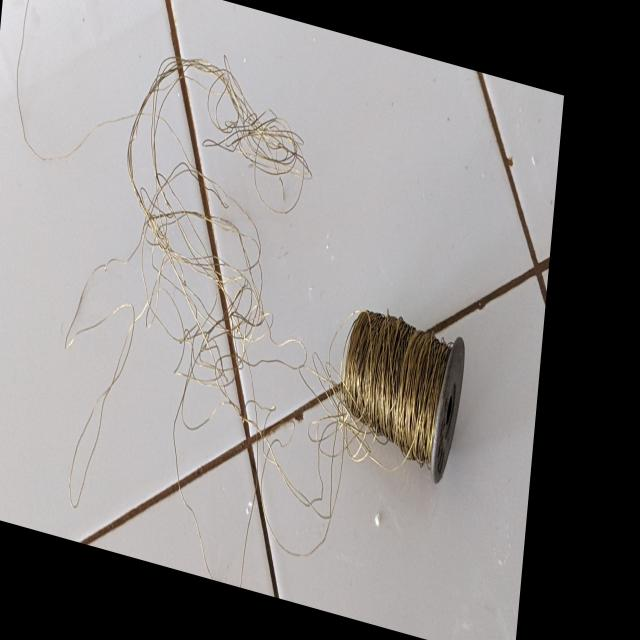Wire Coil: (328, 282, 474, 506)
